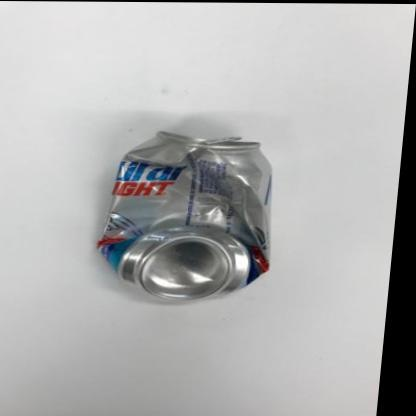trash: (97, 131, 271, 298)
